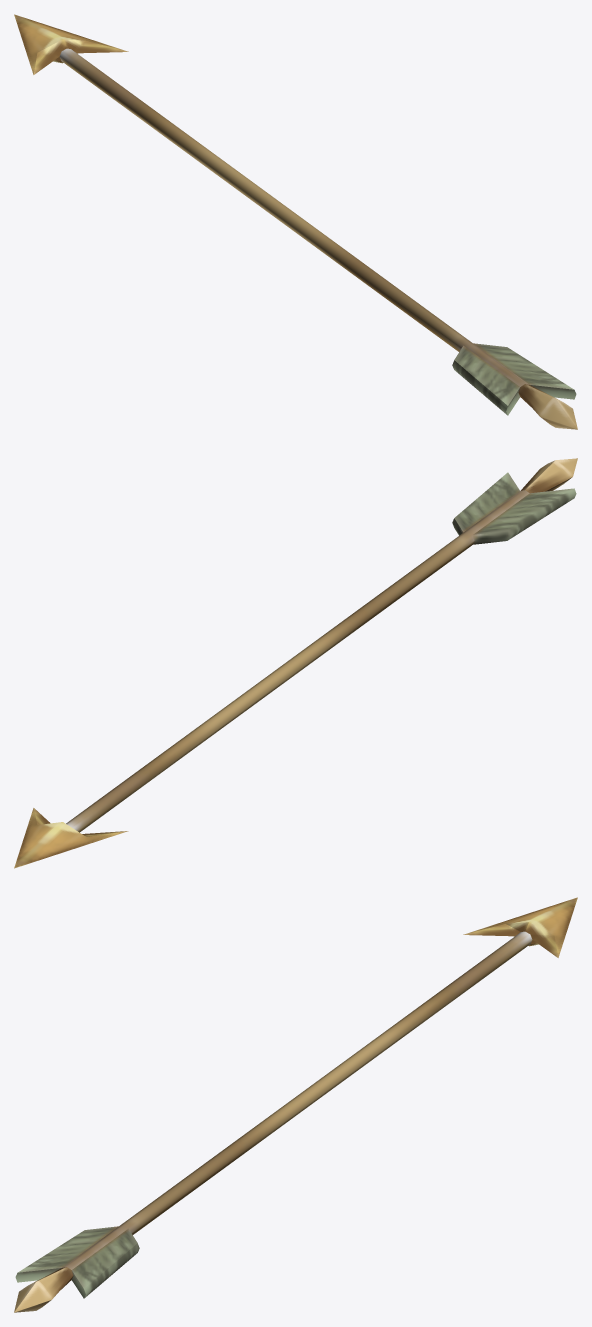
Rendered from arrow.glb.
3 renders of one model, top to bottom at view 1: azimuth 30°, elevation 25°; view 2: azimuth 150°, elevation 25°; view 3: azimuth 330°, elevation 25°, orthographic.
Visible parts, largest first — view 1: StylooArrow; view 2: StylooArrow; view 3: StylooArrow.
Part boxes in pixels (x1,y1,x2,y2): StylooArrow: [14, 14, 577, 429]; StylooArrow: [14, 458, 577, 868]; StylooArrow: [14, 897, 577, 1312].
Size of the model in its own units: 0.0858 by 0.025 by 0.8754.
1 material, 1 textured.
